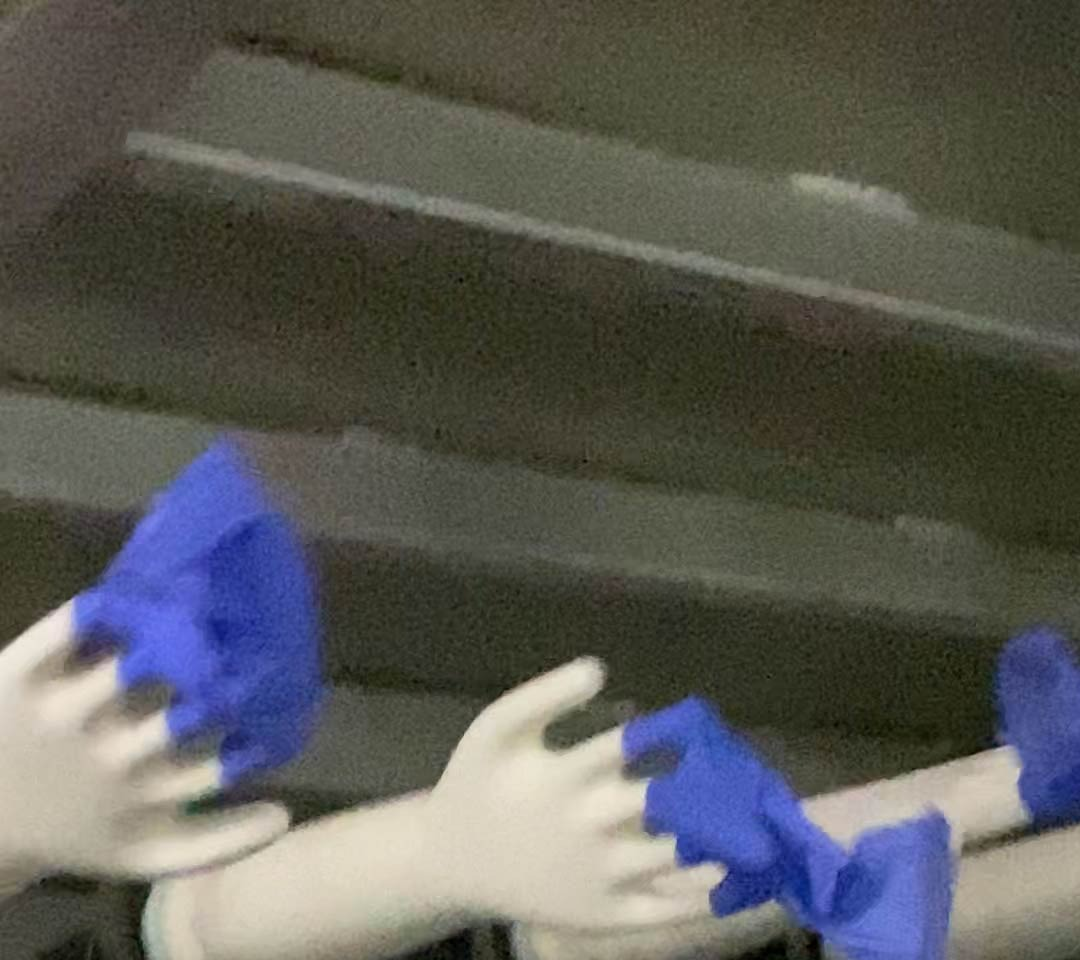glove: (623, 696, 957, 960), (76, 438, 320, 771)
